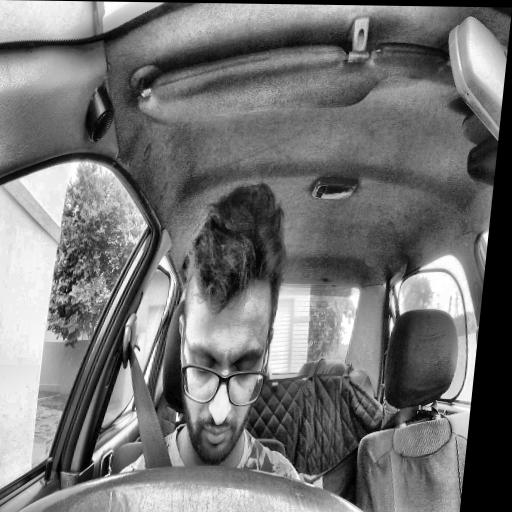drowsy: (163, 179, 293, 468)
